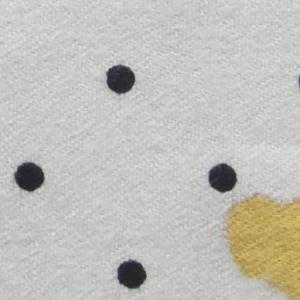Stain: (223, 187, 300, 300)
